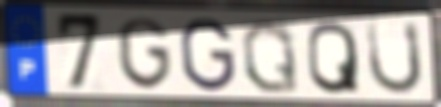7: (53, 10, 106, 94)
G: (177, 16, 238, 94), (114, 15, 175, 92)
Q: (239, 15, 302, 96), (306, 18, 363, 97)
U: (364, 19, 426, 97)
